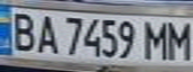4: (81, 16, 103, 57)
5: (100, 17, 121, 59)
7: (60, 15, 84, 56)
9: (115, 17, 142, 60)
A: (30, 11, 60, 54)
B: (3, 9, 39, 52)
M: (139, 18, 172, 61), (163, 18, 193, 61)
